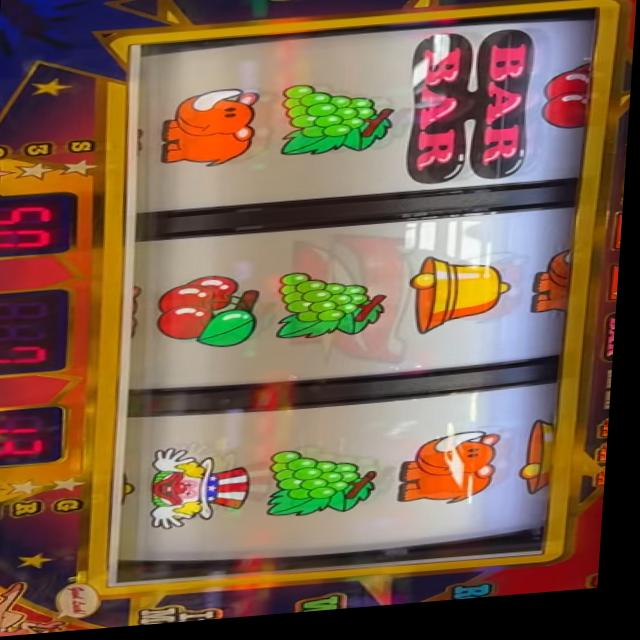bar: (404, 33, 540, 195), (604, 321, 621, 373)
bell: (408, 257, 518, 345), (522, 428, 566, 507)
cherry: (157, 275, 271, 358), (540, 70, 597, 143)
display: (108, 16, 599, 591)
elephant: (397, 435, 509, 518), (158, 89, 264, 174), (532, 257, 583, 327), (598, 452, 614, 475), (597, 478, 613, 500), (601, 428, 615, 449)
grape: (272, 82, 402, 164), (151, 445, 260, 535), (273, 269, 396, 348), (268, 449, 391, 525)
z: (608, 271, 624, 314), (612, 219, 626, 264)
